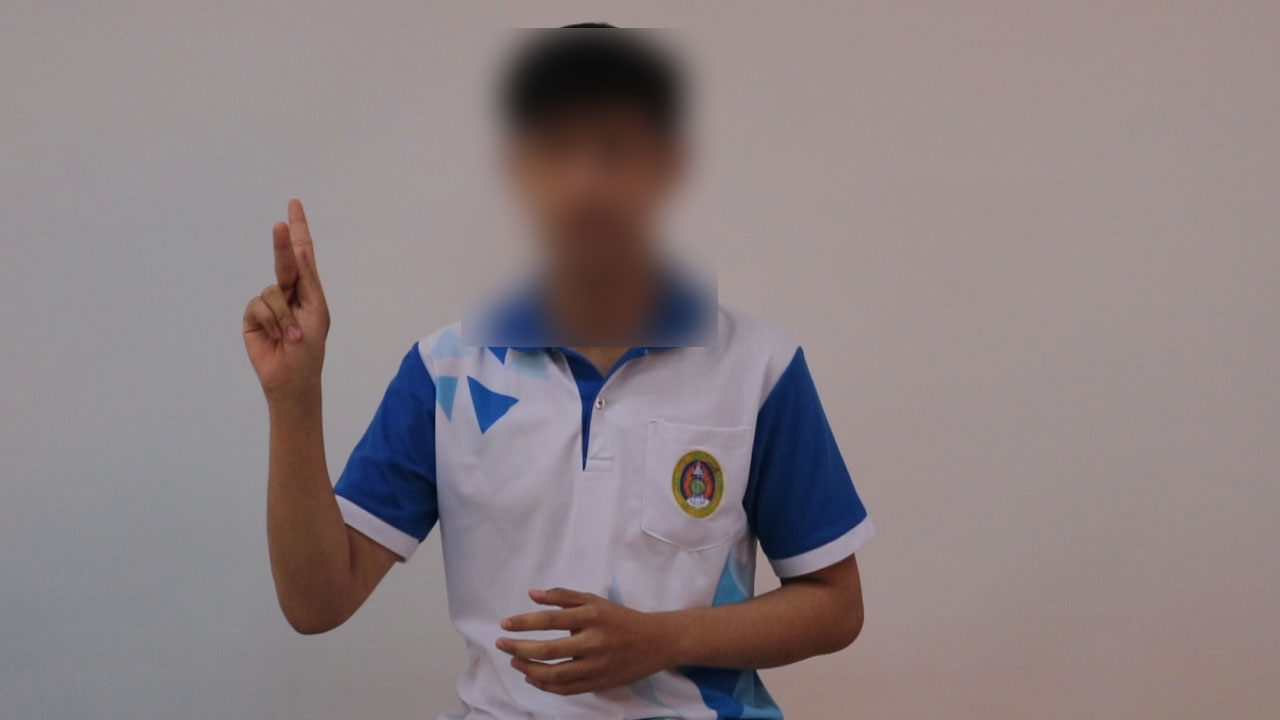ko: (212, 166, 367, 430)
